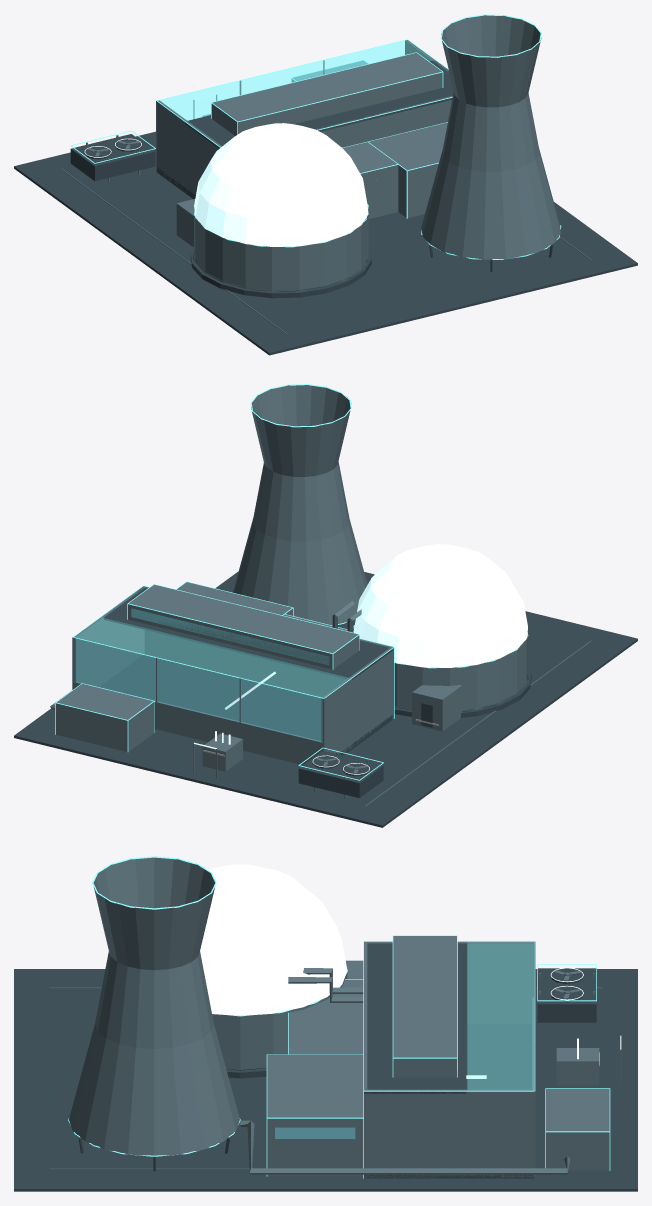
File: nuclear_smr_module.lod1.glb
3 renders of one model, top to bottom at view 1: azimuth 30°, elevation 25°; view 2: azimuth 150°, elevation 25°; view 3: azimuth 270°, elevation 25°, orthographic. The views are drawn at different scales.
Parts seen in each view (by area): view 1: nuclear_smr_module_graphite_light.001, nuclear_smr_module_graphite.001, nuclear_smr_module_white.001, nuclear_smr_module_glass.001, nuclear_smr_module_edge.001; view 2: nuclear_smr_module_graphite_light.001, nuclear_smr_module_graphite.001, nuclear_smr_module_glass.001, nuclear_smr_module_white.001, nuclear_smr_module_edge.001; view 3: nuclear_smr_module_graphite_light.001, nuclear_smr_module_graphite.001, nuclear_smr_module_white.001, nuclear_smr_module_glass.001, nuclear_smr_module_edge.001.
Part boxes in pixels (x1,y1,x2,y2): nuclear_smr_module_graphite_light.001: (60, 15, 591, 334); nuclear_smr_module_graphite.001: (14, 60, 637, 355); nuclear_smr_module_white.001: (84, 94, 368, 246); nuclear_smr_module_glass.001: (159, 40, 432, 120); nuclear_smr_module_edge.001: (70, 14, 561, 259); nuclear_smr_module_graphite_light.001: (50, 385, 591, 806); nuclear_smr_module_graphite.001: (14, 571, 637, 827); nuclear_smr_module_glass.001: (75, 609, 348, 741); nuclear_smr_module_white.001: (194, 544, 527, 774); nuclear_smr_module_edge.001: (55, 384, 528, 780); nuclear_smr_module_graphite_light.001: (49, 857, 621, 1178); nuclear_smr_module_graphite.001: (14, 943, 637, 1191); nuclear_smr_module_white.001: (200, 864, 621, 1078); nuclear_smr_module_glass.001: (275, 942, 533, 1138); nuclear_smr_module_edge.001: (68, 856, 610, 1178).
Bounding box in the file's own units: 97 × 52.74 × 116.
